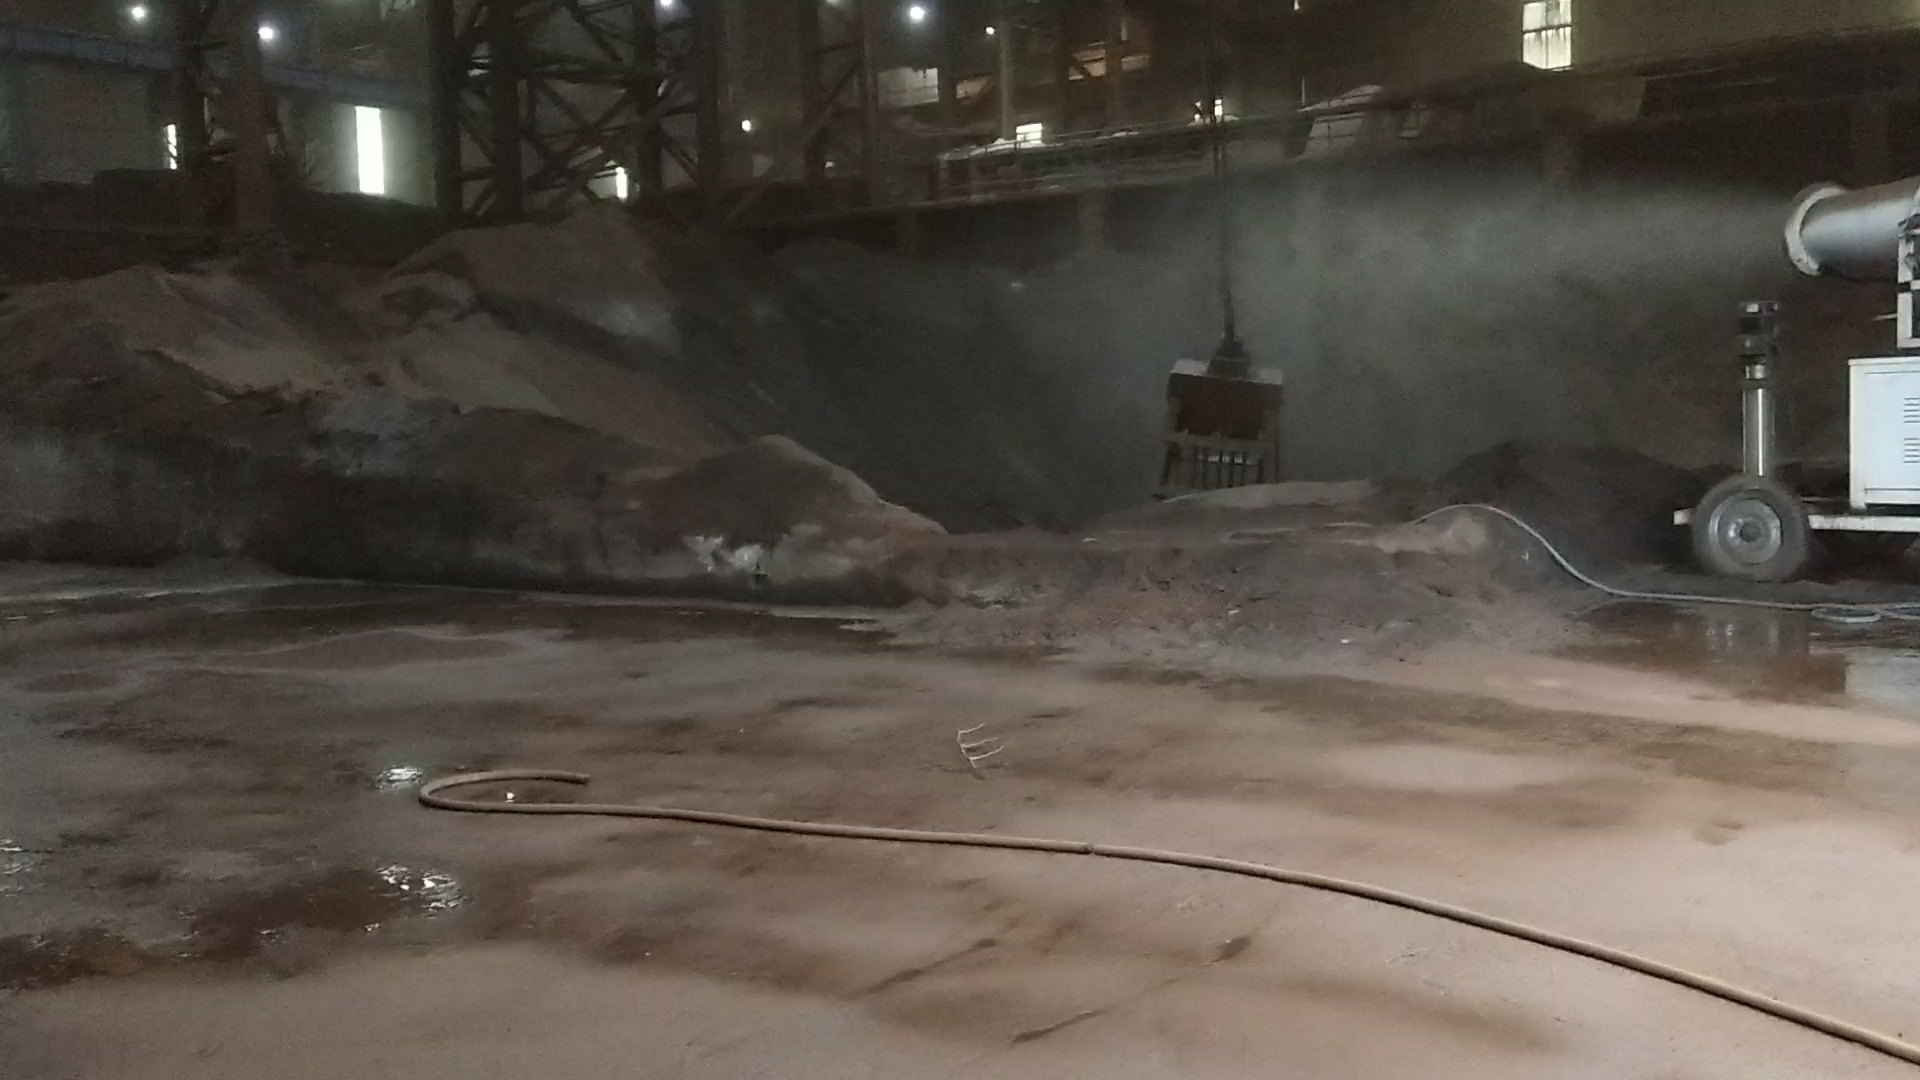dust: (997, 157, 1768, 349)
grab: (1143, 318, 1302, 506)
